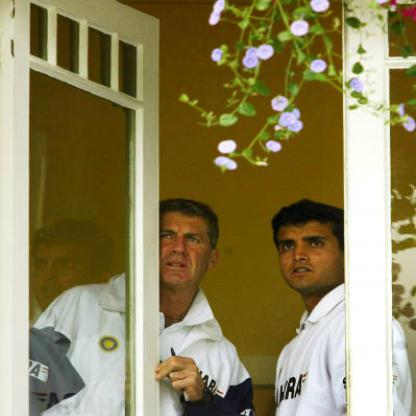face: (29, 224, 102, 319), (273, 204, 347, 294), (148, 201, 216, 287)
